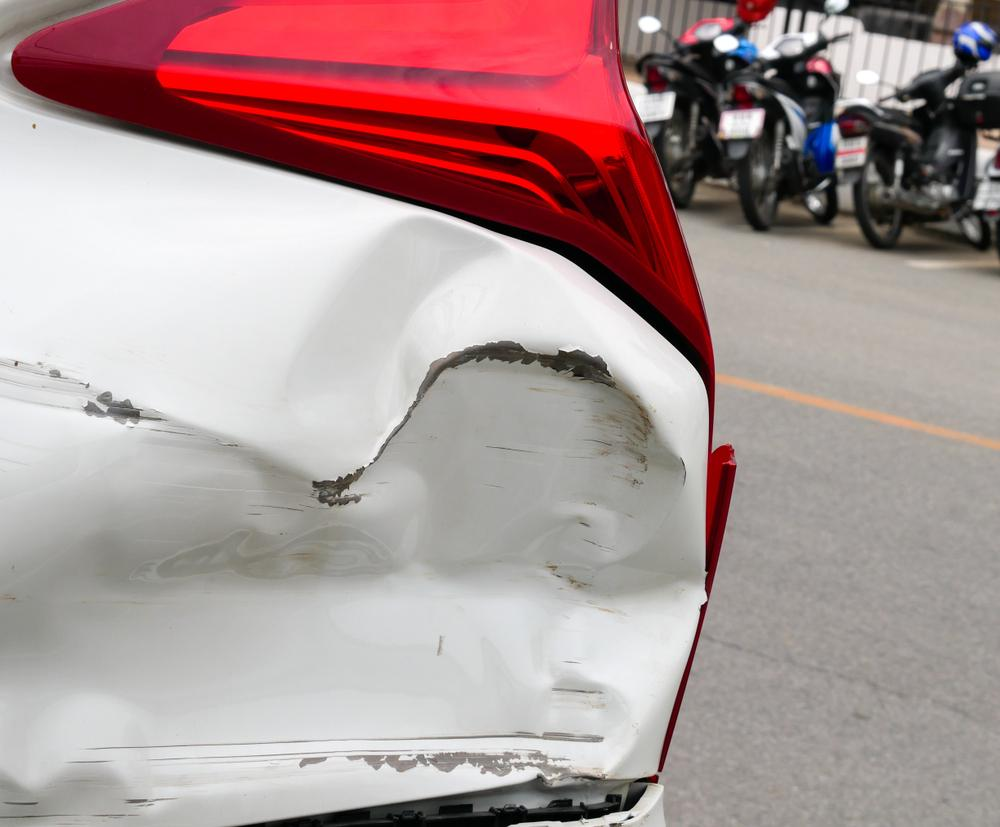dent: (0, 212, 702, 827)
scratch: (0, 351, 158, 440)
